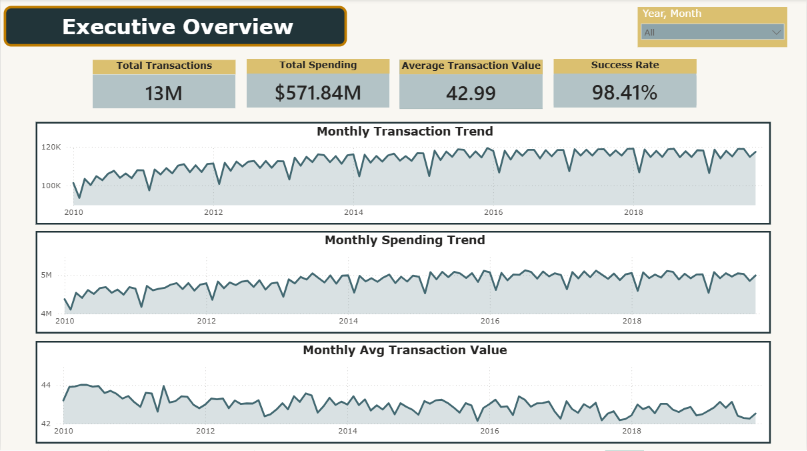

The page's visual inventory and layout, read from the dashboard file:
{"tool":"powerbi","page":{"name":"Executive Overview","canvas":[1280,720],"ordinal":0},"visuals":[{"type":"cardVisual","title":"Total Transactions","fields":{"Data":["Sum(01_monthly_transaction_performance.total_transactions)"]},"box":[146.3,97,227.5,77.9],"z":1000},{"type":"cardVisual","title":"Total Spending","fields":{"Data":["Sum(01_monthly_transaction_performance.total_spending)"]},"box":[391.3,95.4,227.5,77.9],"z":2000},{"type":"cardVisual","title":"Average Transaction Value","fields":{"Data":["Avg(01_monthly_transaction_performance.avg_transaction_value)"]},"box":[634.7,97,227.5,77.9],"z":3000},{"type":"lineChart","title":"Monthly Transaction Trend","fields":{"Y":["Sum(01_monthly_transaction_performance.total_transactions)"],"Category":["01_monthly_transaction_performance.transaction_month.Variation.Date Hierarchy.Year","01_monthly_transaction_performance.transaction_month.Variation.Date Hierarchy.Month"]},"box":[55.1,195.9,1169.1,163.5],"z":4000},{"type":"lineChart","title":"Monthly Spending Trend","fields":{"Category":["01_monthly_transaction_performance.transaction_month.Variation.Date Hierarchy.Year","01_monthly_transaction_performance.transaction_month.Variation.Date Hierarchy.Month"],"Y":["Sum(01_monthly_transaction_performance.total_spending)"]},"box":[55.1,369.2,1169.1,163.5],"z":5000},{"type":"lineChart","title":"Monthly Avg Transaction Value","fields":{"Category":["01_monthly_transaction_performance.transaction_month.Variation.Date Hierarchy.Year","01_monthly_transaction_performance.transaction_month.Variation.Date Hierarchy.Month"],"Y":["Sum(01_monthly_transaction_performance.avg_transaction_value)"]},"box":[55.1,544.1,1169.1,163.5],"z":6000},{"type":"cardVisual","title":"Success Rate","fields":{"Data":["06_transaction_status.Success Rate"]},"box":[879.6,95.4,227.5,77.9],"z":7000},{"type":"textbox","title":"Executive Overview","box":[4.9,11.3,545.7,64.8],"z":8000},{"type":"slicer","fields":{"Values":["01_monthly_transaction_performance.transaction_month.Variation.Date Hierarchy.Year","01_monthly_transaction_performance.transaction_month.Variation.Date Hierarchy.Month"]},"box":[1014,12,238,64],"z":9000}]}

Visuals, with their boxes in screenshot pixels (x1, y1, x2, y2), scaled from the page's 1280x720 canvas onto the 807x451 screenshot:
"Total Transactions" cardVisual: BBox(92, 61, 236, 110)
"Total Spending" cardVisual: BBox(247, 60, 390, 109)
"Average Transaction Value" cardVisual: BBox(400, 61, 544, 110)
"Monthly Transaction Trend" lineChart: BBox(35, 123, 772, 225)
"Monthly Spending Trend" lineChart: BBox(35, 231, 772, 334)
"Monthly Avg Transaction Value" lineChart: BBox(35, 341, 772, 443)
"Success Rate" cardVisual: BBox(555, 60, 698, 109)
"Executive Overview" textbox: BBox(3, 7, 347, 48)
slicer - 01_monthly_transaction_performance.transaction_month.Variation.Date Hierarchy.Year x 01_monthly_transaction_performance.transaction_month.Variation.Date Hierarchy.Month: BBox(639, 8, 789, 48)
